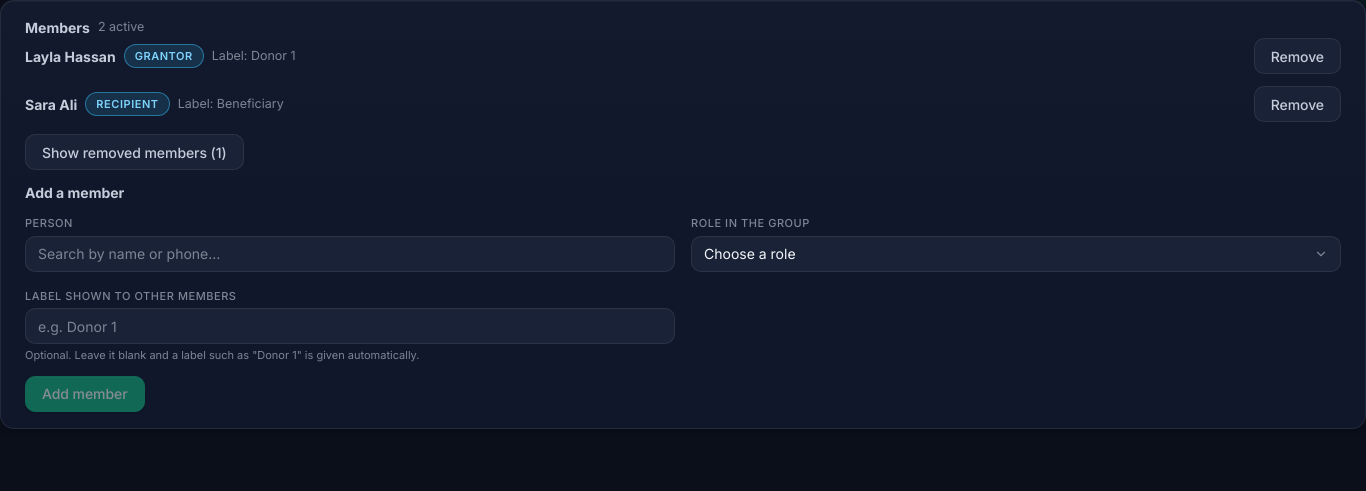
Scenario: GroupRoster — remove › shows a refusal in words, never the server text
Click the button with aria-label "Remove Layla Hassan" at (1297,56), box x1=1254 y1=38 x2=1341 y2=74
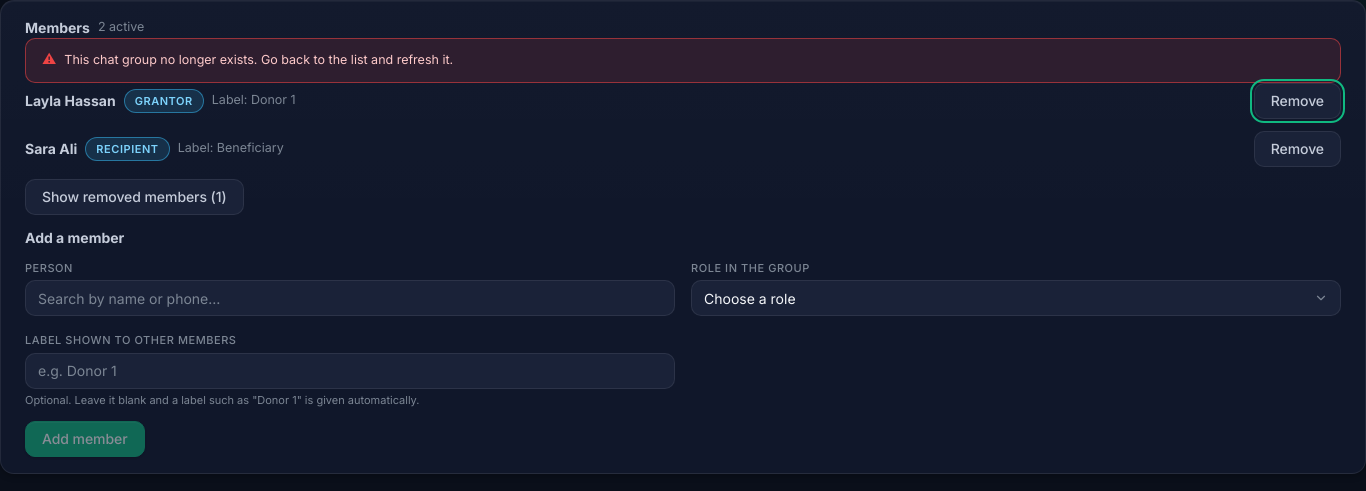
Now the text "This chat group no longer exists. Go back to the list and refresh it." is shown, box x1=25 y1=38 x2=1341 y2=83
